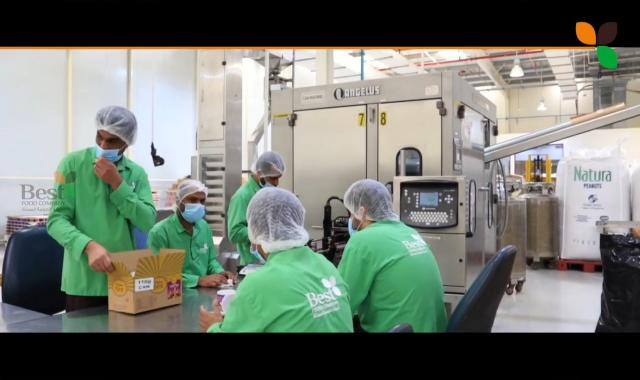hairnet: (247, 185, 308, 253), (341, 177, 402, 224), (90, 104, 138, 144), (173, 180, 210, 210), (250, 151, 283, 180)
